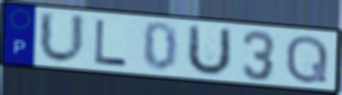0: (142, 21, 181, 74)
3: (241, 28, 277, 83)
L: (93, 17, 130, 68)
Q: (283, 33, 330, 86)
U: (37, 9, 88, 67), (185, 23, 234, 78)
